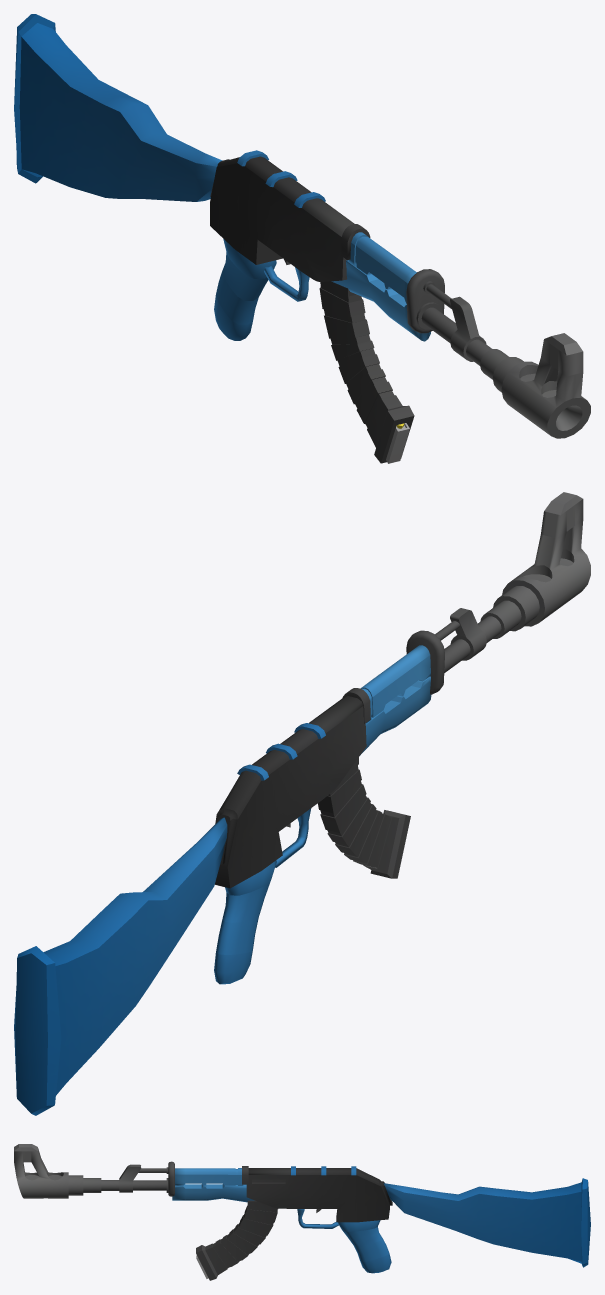
3 renders of one model, top to bottom at view 1: azimuth 30°, elevation 25°; view 2: azimuth 150°, elevation 25°; view 3: azimuth 270°, elevation 25°, orthographic. The views are drawn at different scales.
Visible parts, largest first — view 1: Ak47, Ak47.Magazine; view 2: Ak47; view 3: Ak47.
Boxes of the visible parts, x1,y1,x2,y2 form: Ak47: (14, 14, 590, 463); Ak47.Magazine: (386, 423, 409, 463); Ak47: (14, 492, 590, 1115); Ak47: (14, 1144, 590, 1280).
Size of the model in its own units: 0.0685 by 1.37 by 0.3454.
